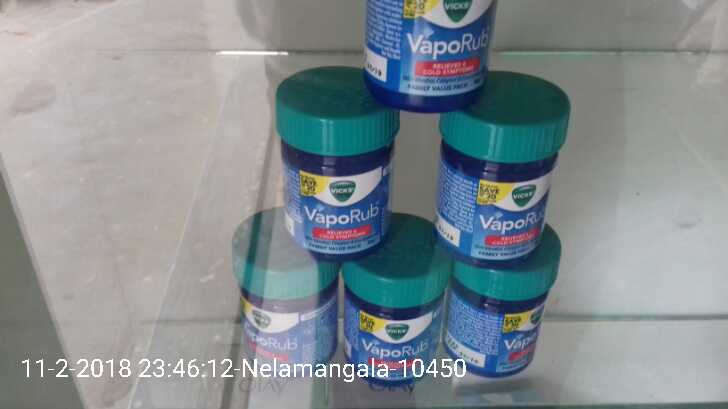pharmacy: (274, 65, 409, 265), (437, 68, 574, 258), (338, 214, 448, 384), (227, 205, 341, 366), (452, 225, 564, 376), (364, 1, 496, 103)
